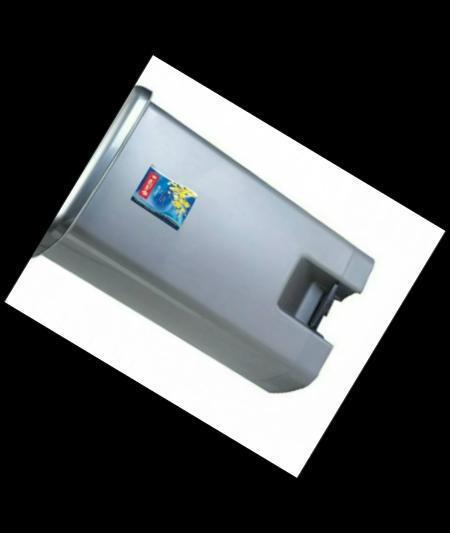Bote de Basura: (34, 77, 395, 407)
